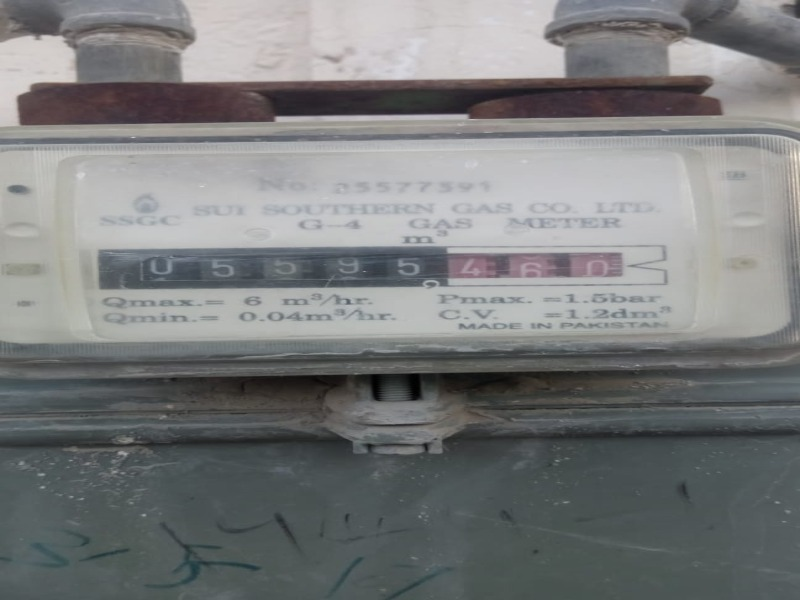ssgc: (115, 245, 643, 288)
